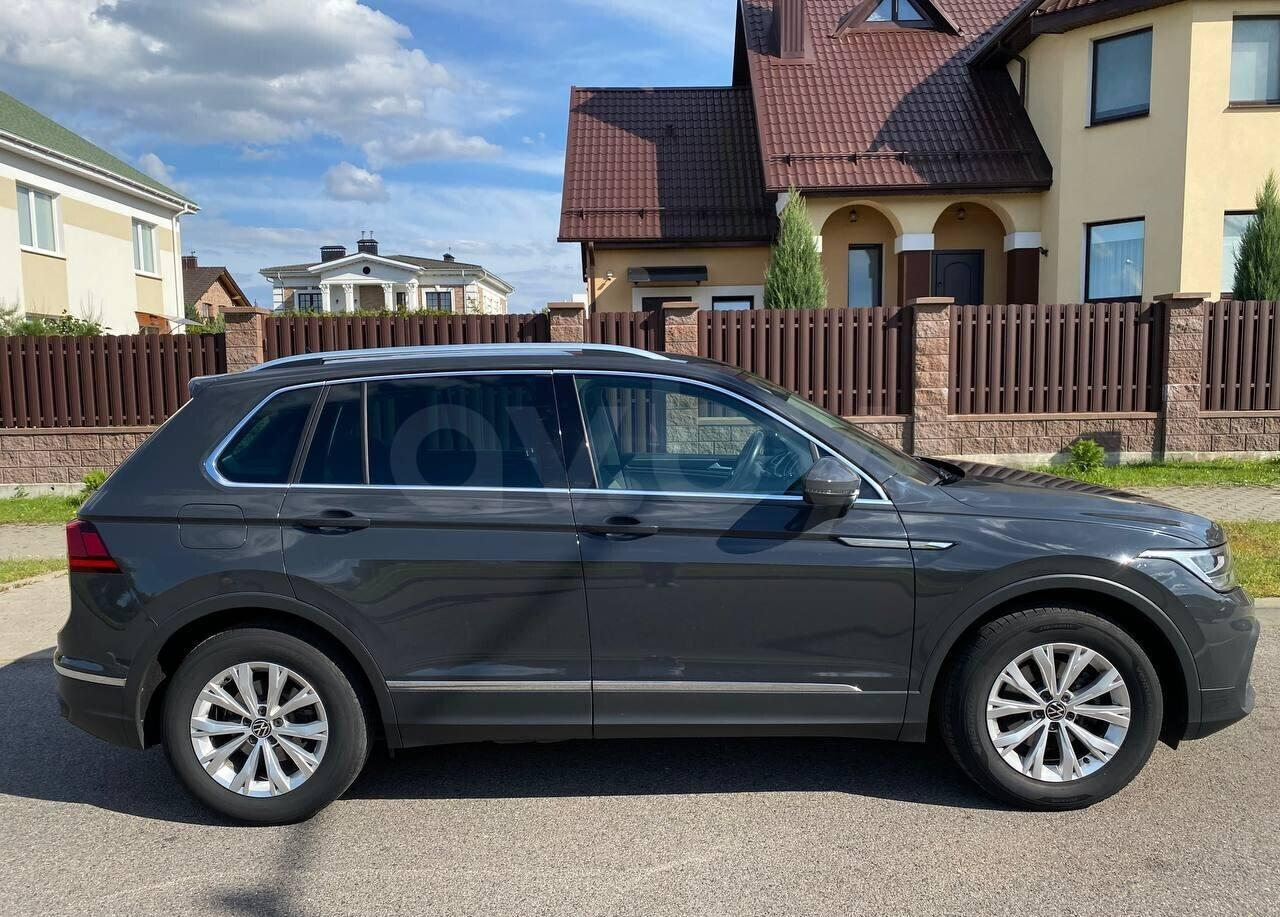Tiguan_2020-2024: (50, 345, 1258, 831)
